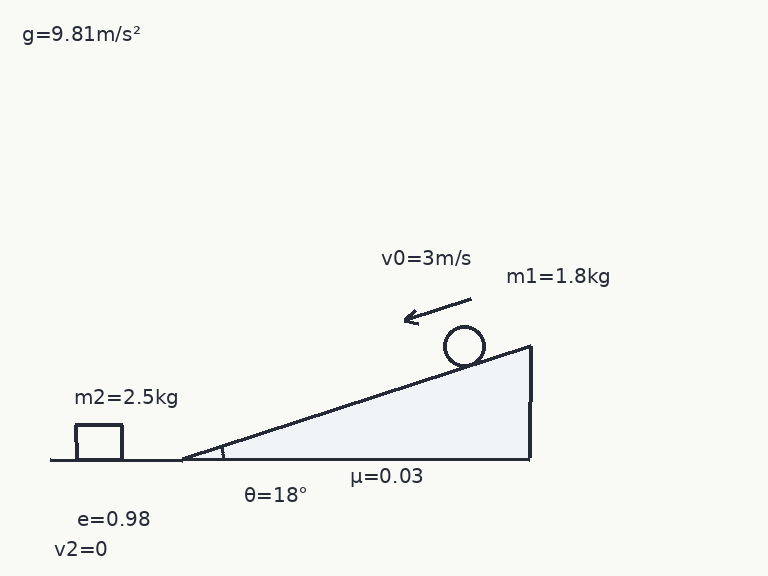ball: (441, 323, 487, 369)
block: (74, 423, 124, 461)
ramp: (181, 344, 532, 461)
